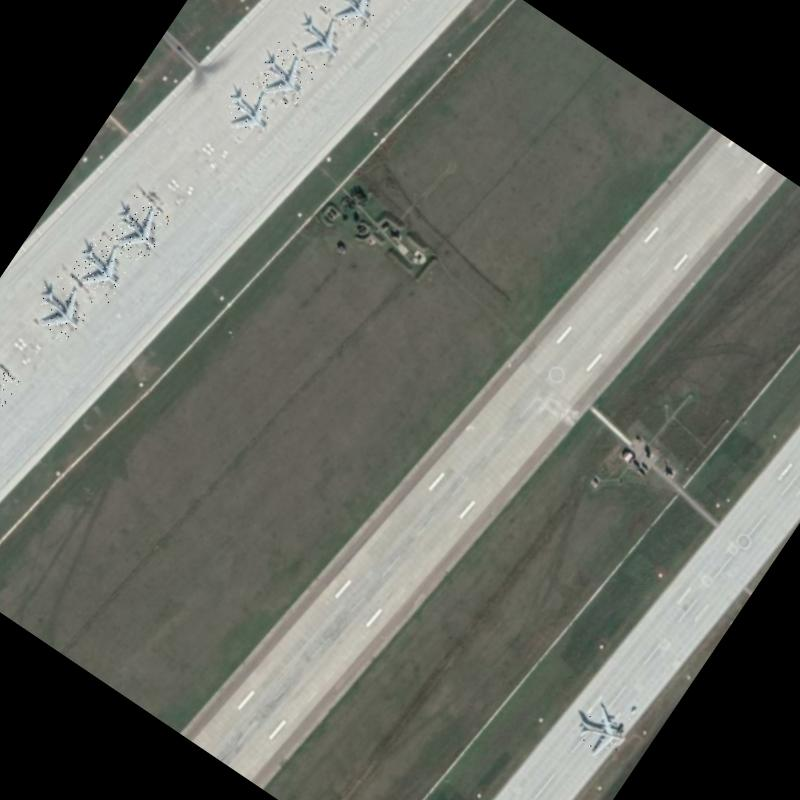A17: (24, 270, 98, 345), (564, 692, 638, 766), (66, 230, 138, 303), (104, 192, 174, 264), (250, 42, 320, 111), (216, 77, 284, 144), (287, 4, 354, 71), (321, 0, 387, 35), (0, 352, 20, 428)
